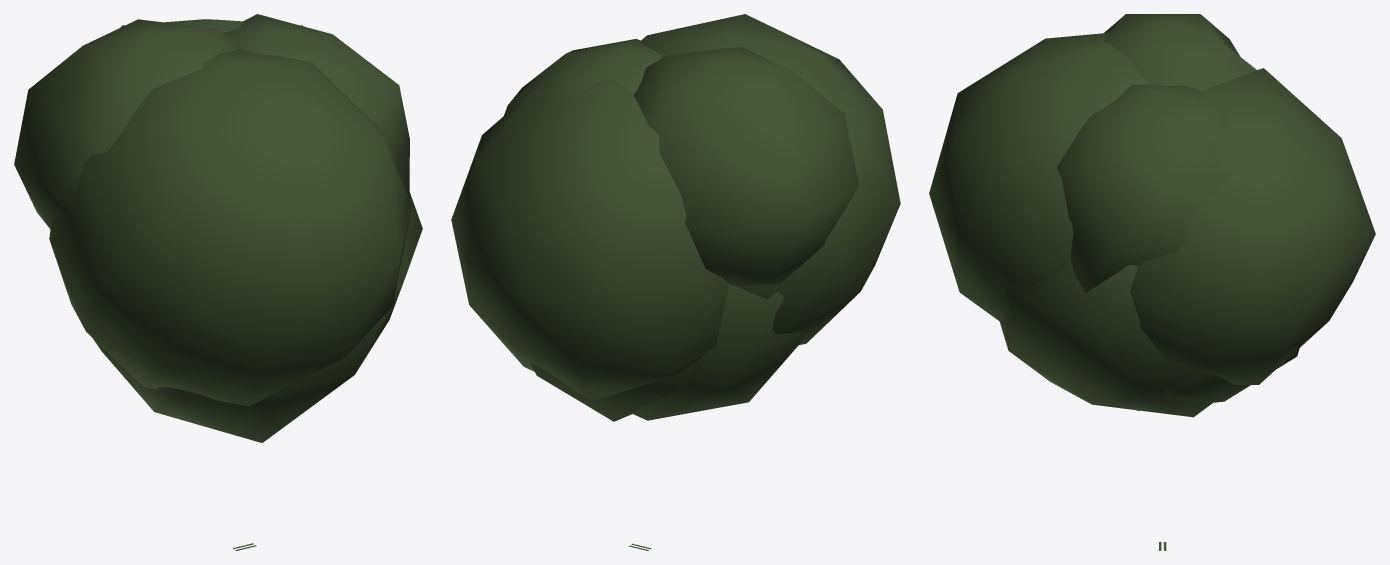
File: protos.glb
3 renders of one model, left to right at view 1: azimuth 30°, elevation 25°; view 2: azimuth 150°, elevation 25°; view 3: azimuth 270°, elevation 25°, orthographic. The views are drawn at different scales.
Parts seen in each view (by area): view 1: TreeCanopy.001; view 2: TreeCanopy.001; view 3: TreeCanopy.001.
Boxes of the visible parts, x1,y1,x2,y2 form: TreeCanopy.001: (14, 14, 422, 442); TreeCanopy.001: (451, 14, 900, 421); TreeCanopy.001: (929, 14, 1375, 417).
Size of the model in its own units: 7 by 9.97 by 8.32.
